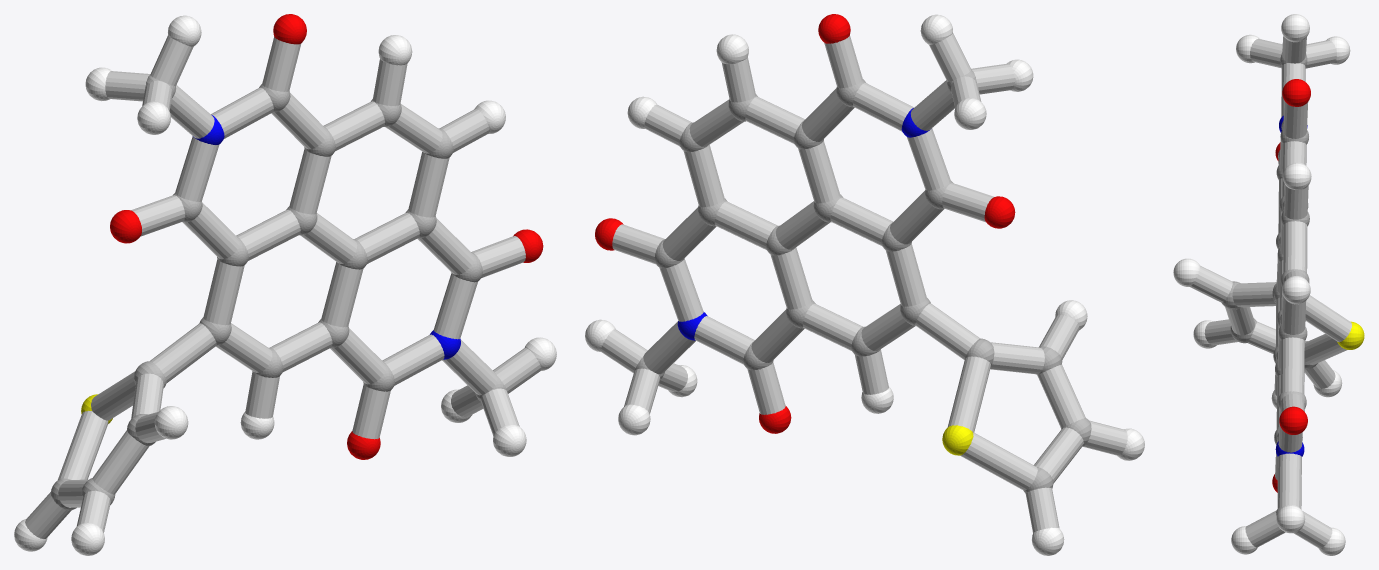
File: Dimethyl_Naphthalene_Dicarboximide_Phi_25_Theta_290_Thiophene.glb
3 views of the same model, side by side, from view 1: azimuth 30°, elevation 25°; view 2: azimuth 150°, elevation 25°; view 3: azimuth 270°, elevation 25° (orthographic). The views are drawn at different scales.
Visible parts, largest first — view 1: grp14119, grp7241, grp1, grp12309, grp11585; view 2: grp14119, grp7241, grp1, grp12309, grp13757, grp11585; view 3: grp14119, grp7241, grp1, grp12309, grp13757.
Boxes of the visible parts, x1=… form: grp14119: x1=25, y1=35, x2=541, y2=538; grp7241: x1=14, y1=15, x2=556, y2=555; grp1: x1=51, y1=75, x2=506, y2=510; grp12309: x1=110, y1=14, x2=543, y2=459; grp11585: x1=193, y1=115, x2=460, y2=359; grp14119: x1=600, y1=33, x2=1127, y2=533; grp7241: x1=585, y1=14, x2=1144, y2=555; grp1: x1=635, y1=69, x2=1091, y2=493; grp12309: x1=595, y1=14, x2=1015, y2=433; grp13757: x1=942, y1=425, x2=973, y2=455; grp11585: x1=677, y1=108, x2=929, y2=340; grp14119: x1=1190, y1=36, x2=1351, y2=548; grp7241: x1=1173, y1=14, x2=1350, y2=555; grp1: x1=1221, y1=52, x2=1317, y2=515; grp12309: x1=1272, y1=79, x2=1310, y2=492; grp13757: x1=1337, y1=321, x2=1364, y2=349.
Bounding box in the file's own units: 10.86 × 10.06 × 3.99.
